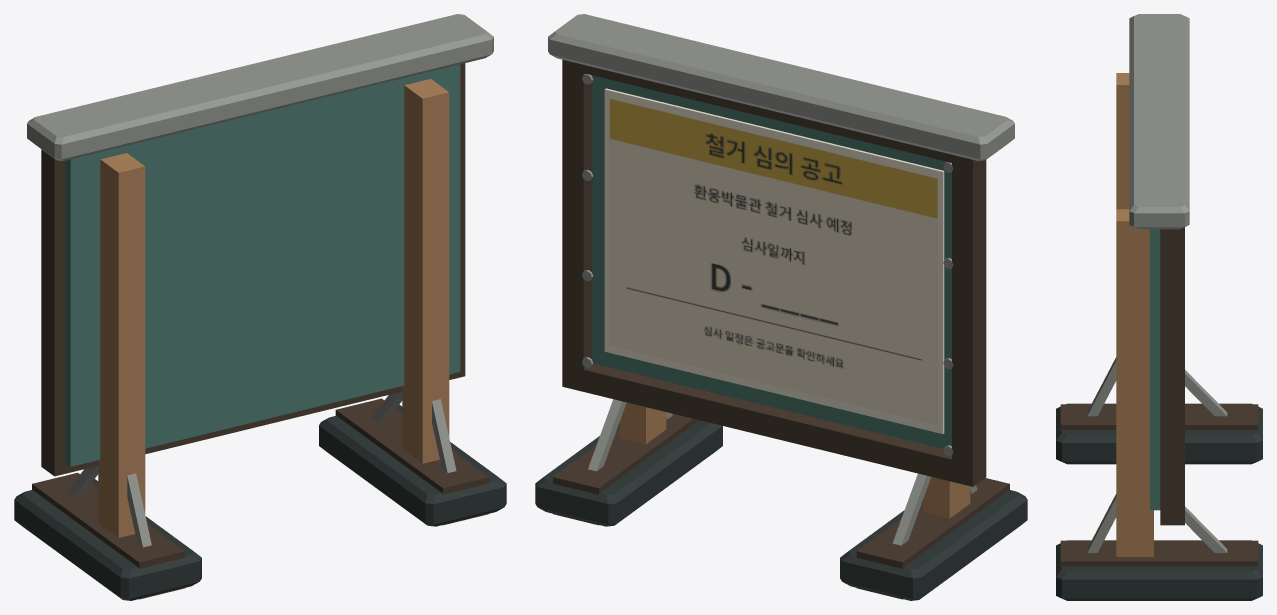
Rendered from D01_Notice_Before.fbx.
3 renders of one model, left to right at view 1: azimuth 30°, elevation 25°; view 2: azimuth 150°, elevation 25°; view 3: azimuth 270°, elevation 25°, orthographic. The views are drawn at different scales.
Visible parts, largest first — view 1: Board_Structure; view 2: Board_Structure, Front_Notice; view 3: Board_Structure.
Part boxes in pixels (x1,y1,x2,y2): Board_Structure: (14, 14, 506, 600); Board_Structure: (535, 14, 1027, 600); Front_Notice: (604, 88, 944, 433); Board_Structure: (1056, 14, 1262, 600).
Bounding box in the file's own units: 2.48 × 2.38 × 1.1.
Materials: 7 (1 with a texture image).
